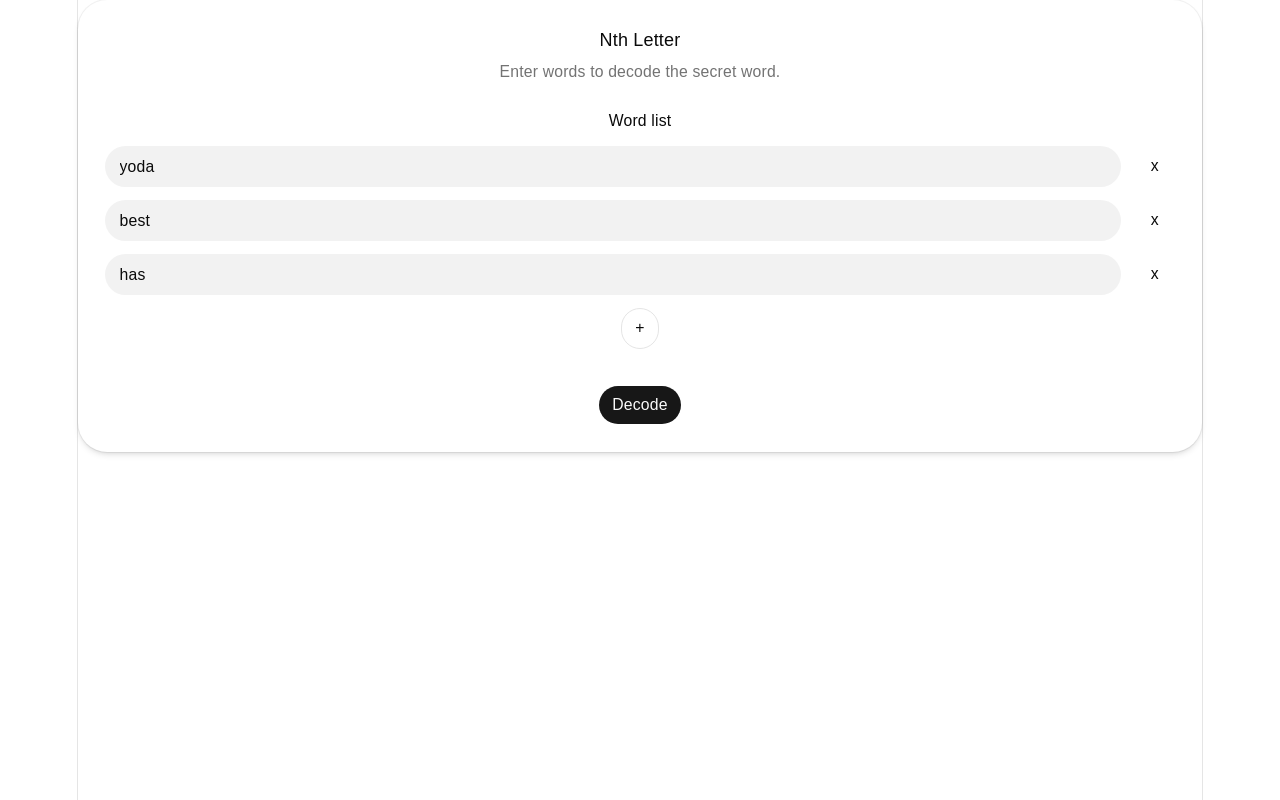
NthLetterChallenge › decodes with default words
Click the button "Decode": (640, 405) [598,385,682,425]
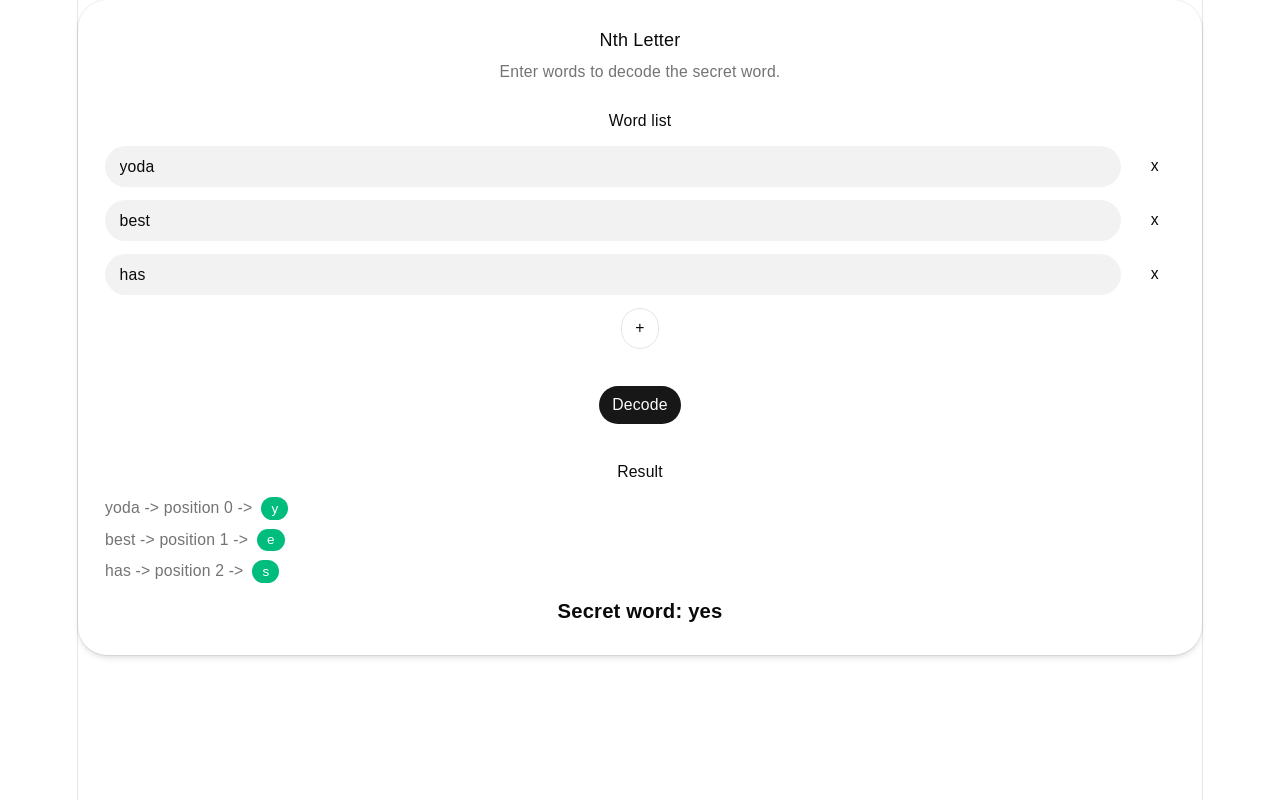
Result: the text "Secret word: yes" is shown at [558,600,722,622]
